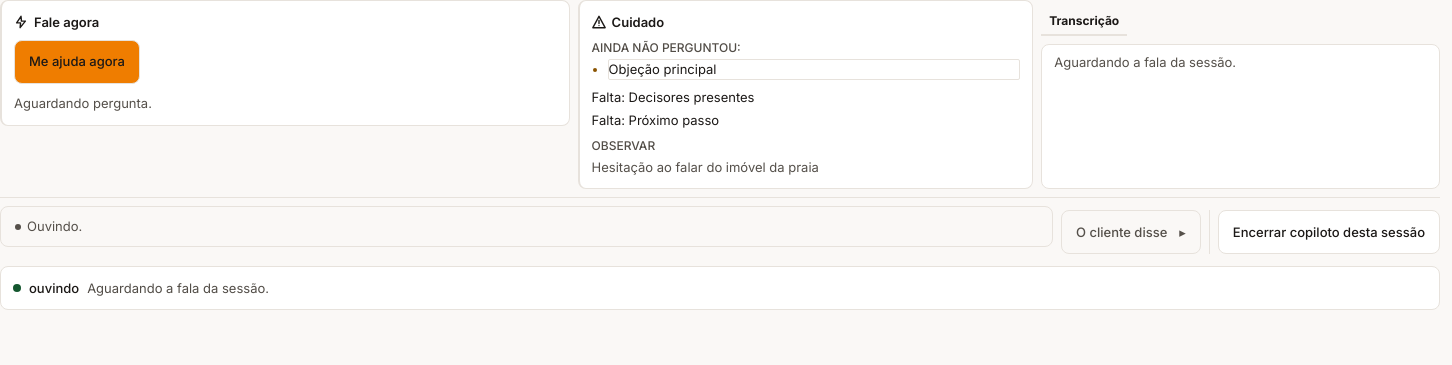
Test case: PainelCopiloto — Fatia 2, botão Me ajuda agora › cada código de recusa rende sua própria mensagem › código desconhecido cai no erro genérico, não trava a tela
The image size is (1452, 365).
Click the button "Me ajuda agora". click: (77, 62)
box: [14, 40, 140, 84]
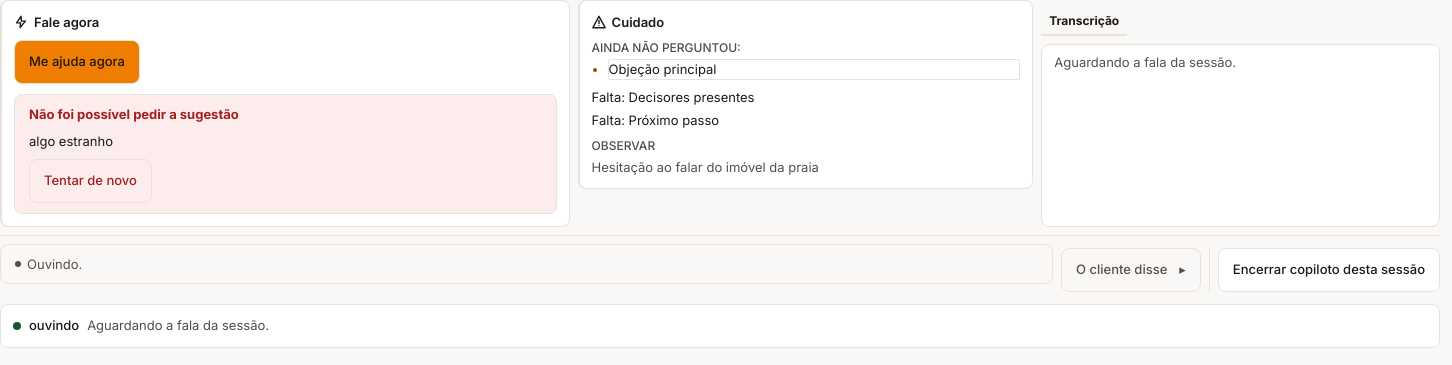
expect the message "Não foi possível pedir a sugestão algo estranho Tentar de novo" is shown: met, box [14, 94, 557, 214]
expect the text "Não foi possível pedir a sugestão" is shown: met, box [29, 105, 239, 124]
